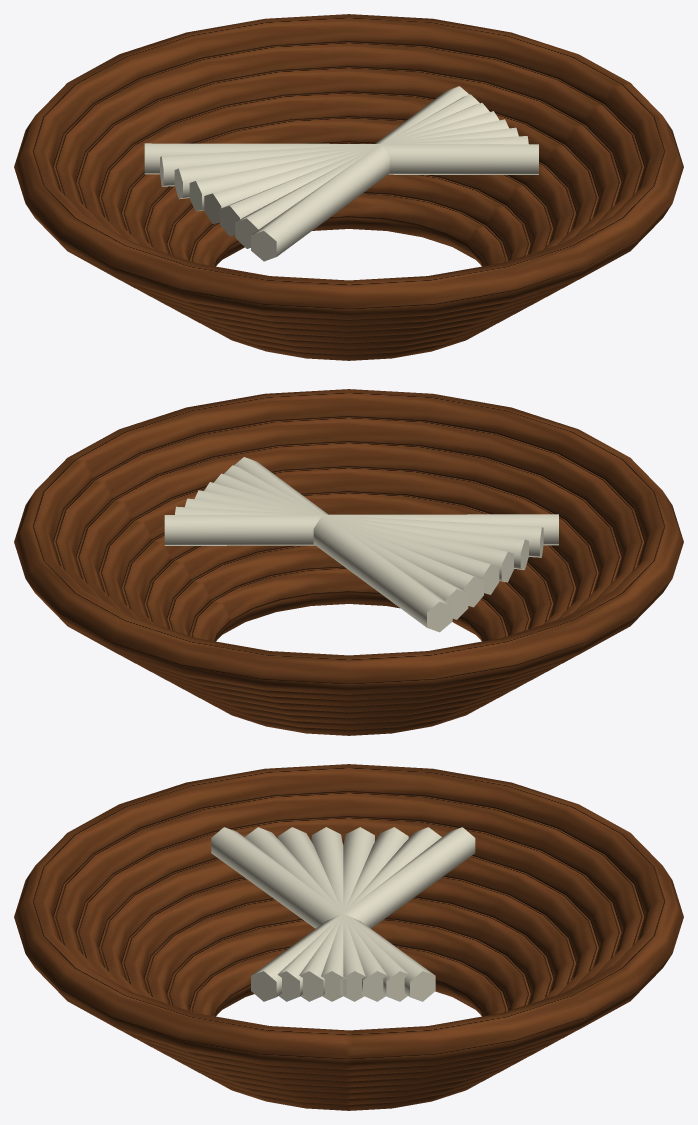
File: wilderness-survival-camp-tinder-nest-494b6748__21957.glb
3 renders of one model, top to bottom at view 1: azimuth 30°, elevation 25°; view 2: azimuth 150°, elevation 25°; view 3: azimuth 270°, elevation 25°, orthographic.
Visible parts, largest first — view 1: tinder-nest; view 2: tinder-nest; view 3: tinder-nest.
Boxes of the visible parts, <box> form: tinder-nest: <box>14,14,683,360</box>; tinder-nest: <box>14,389,683,735</box>; tinder-nest: <box>14,764,683,1110</box>.
Size of the model in its own units: 0.236 by 0.0551 by 0.236.
Materials: 2 (1 with a texture image).
